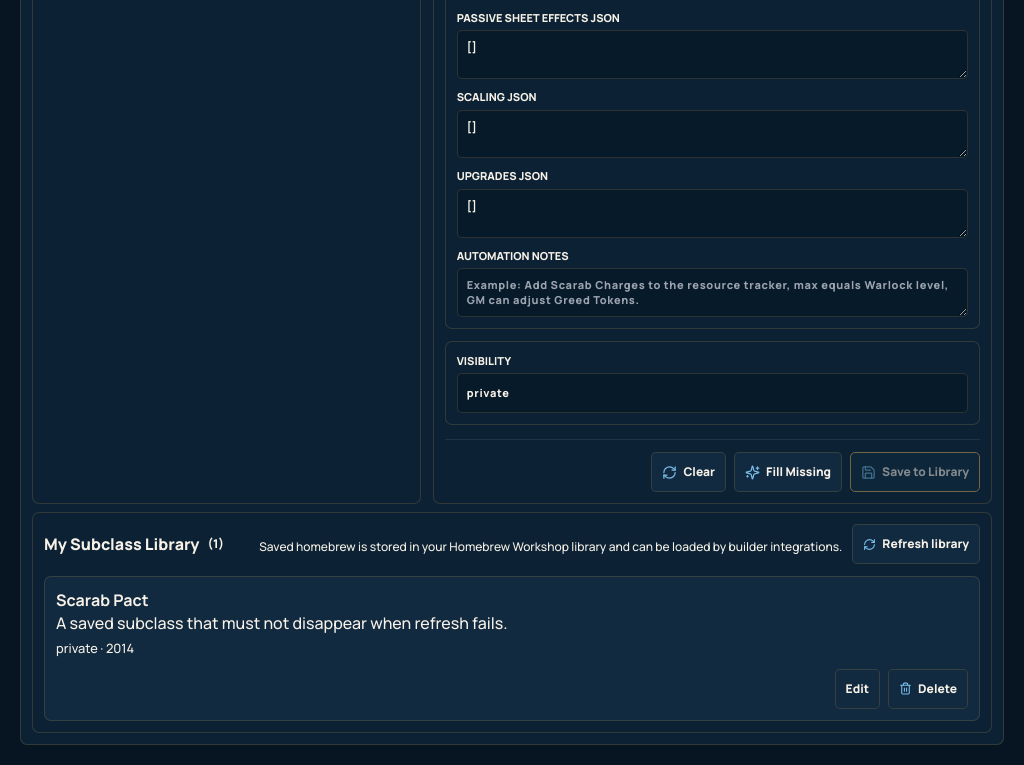
HomebrewWorkshop library reliability › preserves last-known-good homebrew when a manual refresh fails
(page scrolled)
Expected: the text "Scarab Pact" is shown, [56,589,149,611]
Click the button with test id "hb-refresh-library": (916, 544) [852,524,980,564]
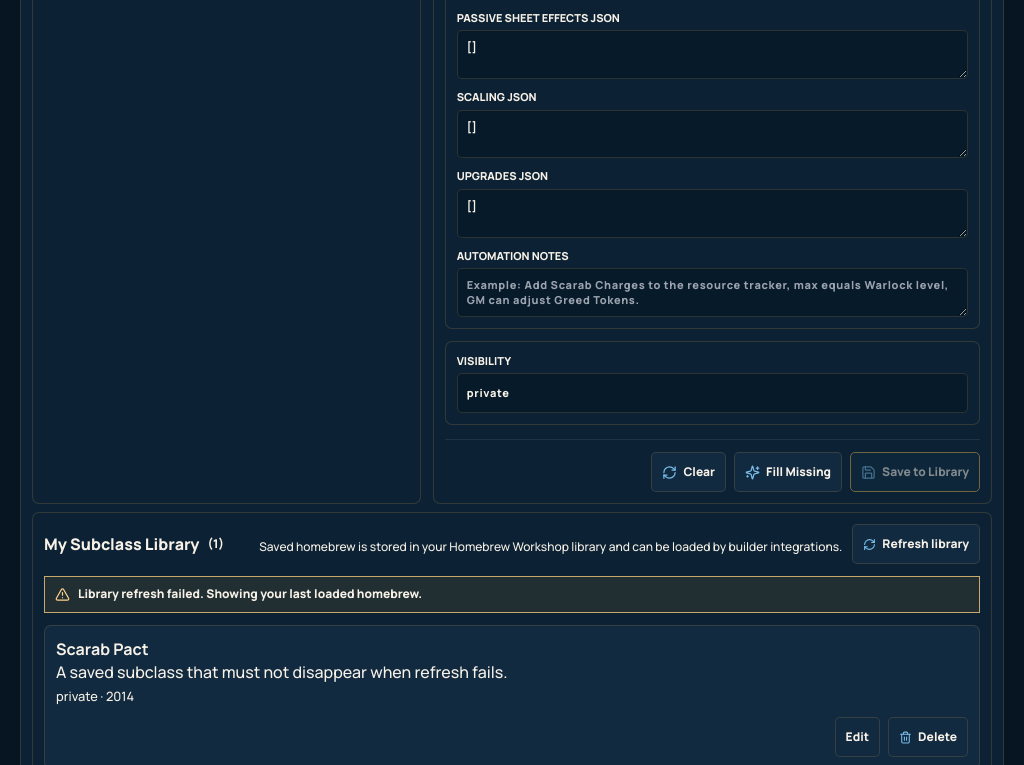
Expected: the text "Scarab Pact" is shown, [56,638,149,660]
Expected: the message with test id "hb-library-warning" reads "Library refresh failed. Showing your last loaded homebrew.", [78,585,422,602]
